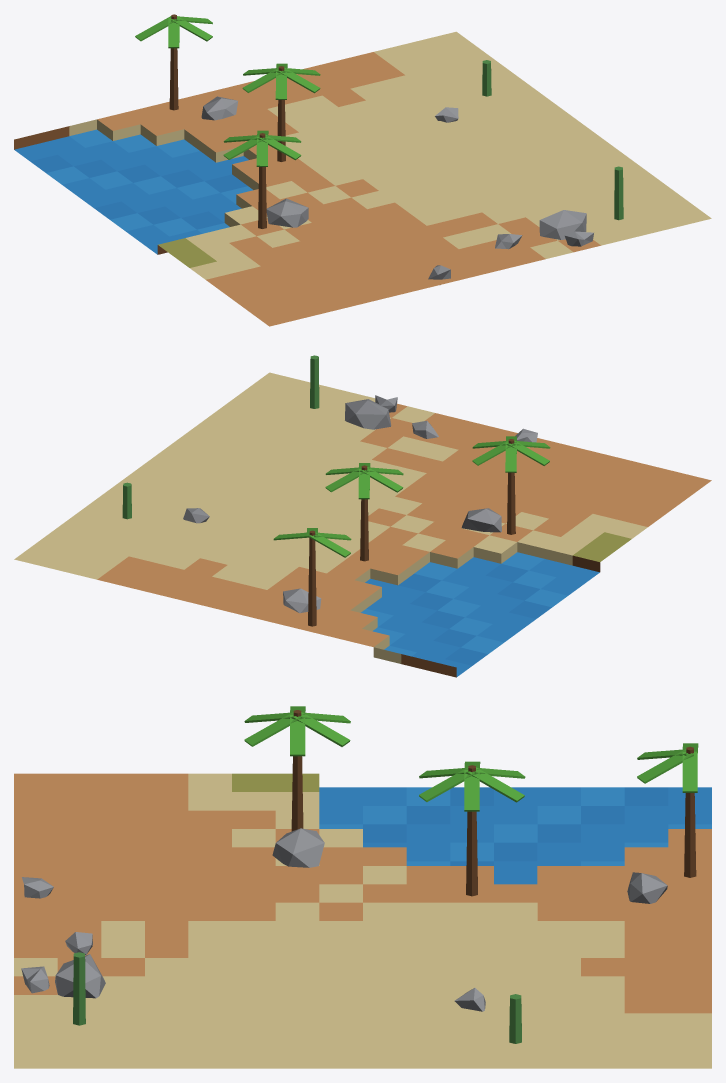
The model's file is chunk_10_21.glb.
3 views of the same model, one above another, from view 1: azimuth 30°, elevation 25°; view 2: azimuth 150°, elevation 25°; view 3: azimuth 270°, elevation 25° (orthographic). The views are drawn at different scales.
Parts seen in each view (by area): view 1: chunk_10_21; view 2: chunk_10_21; view 3: chunk_10_21.
Boxes of the visible parts, left/top/right/bottom form: chunk_10_21: left=14, top=14, right=711, bottom=326; chunk_10_21: left=14, top=355, right=711, bottom=677; chunk_10_21: left=14, top=706, right=711, bottom=1068.
Bounding box in the file's own units: 16 × 3.65 × 16.
